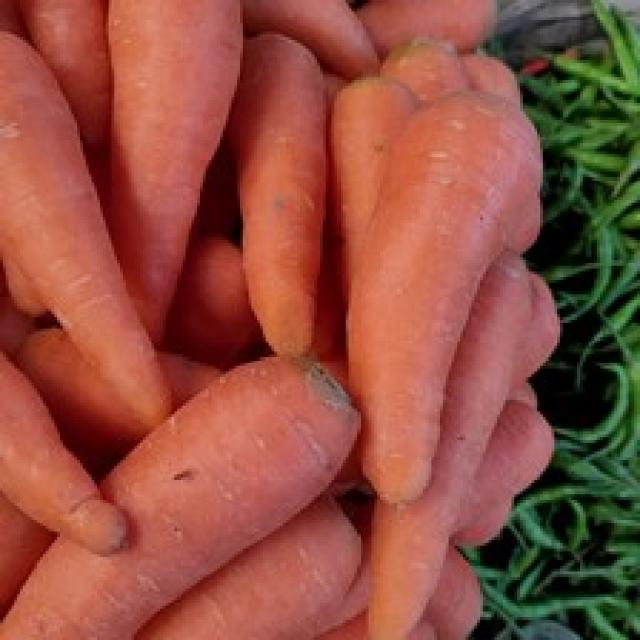Fresh_Carrot: (106, 0, 210, 316), (386, 95, 460, 534), (231, 34, 329, 342)
